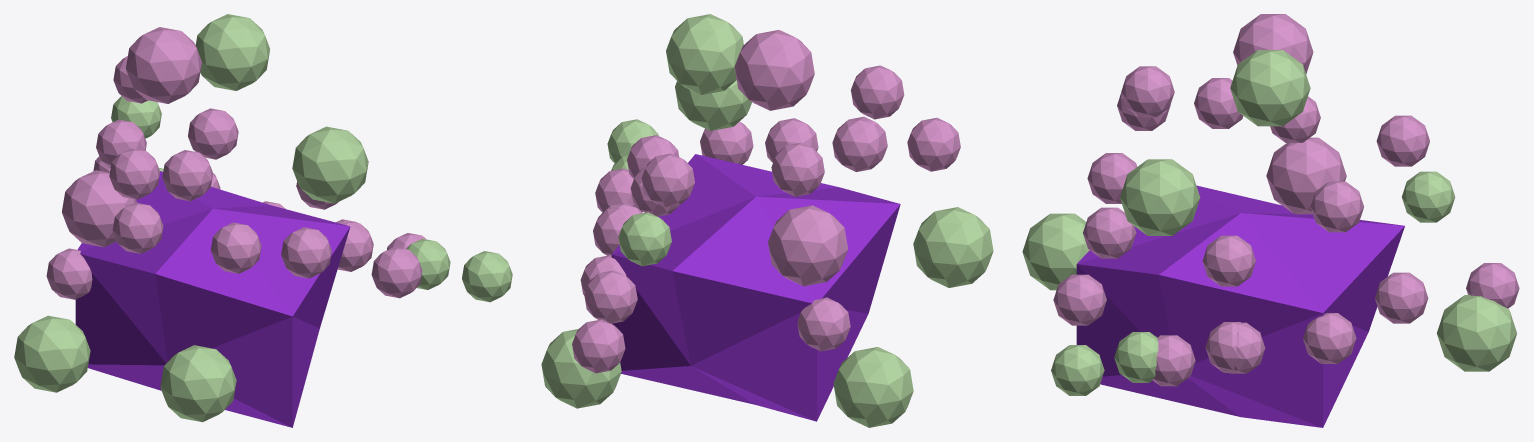
Rendered from ele1.dae.
The picture shows the model from 3 angles, left to right: view 1: azimuth 30°, elevation 25°; view 2: azimuth 150°, elevation 25°; view 3: azimuth 270°, elevation 25°; orthographic projection. The views are drawn at different scales.
Visible parts, largest first — view 1: Cone, Icosphere_026, Icosphere_021, Icosphere_022, Icosphere_023, Icosphere_024, Icosphere_020, Icosphere_006, Icosphere_015, Icosphere_017, Icosphere_010, Icosphere_011 (+9 smaller); view 2: Cone, Icosphere_020, Icosphere_021, Icosphere_026, Icosphere_022, Icosphere_024, Icosphere_025, Icosphere_023, Icosphere_001, Icosphere_017, Icosphere_014, Icosphere_018 (+13 smaller); view 3: Cone, Icosphere_024, Icosphere_023, Icosphere_025, Icosphere_020, Icosphere_021, Icosphere_022, Icosphere_010, Icosphere_001, Icosphere_009, Icosphere_008, Icosphere_013 (+14 smaller).
Part boxes in pixels (<box>): Cone: <box>75,171,350,427</box>; Icosphere_026: <box>14,315,90,392</box>; Icosphere_021: <box>160,345,236,422</box>; Icosphere_022: <box>126,27,201,103</box>; Icosphere_023: <box>292,126,368,203</box>; Icosphere_024: <box>195,14,270,90</box>; Icosphere_020: <box>62,170,136,247</box>; Icosphere_006: <box>462,251,512,302</box>; Icosphere_015: <box>112,202,163,253</box>; Icosphere_017: <box>109,148,159,199</box>; Icosphere_010: <box>371,247,422,298</box>; Icosphere_011: <box>281,227,331,278</box>; Cone: <box>611,154,900,421</box>; Icosphere_020: <box>768,205,848,286</box>; Icosphere_021: <box>913,207,993,287</box>; Icosphere_026: <box>833,347,913,427</box>; Icosphere_022: <box>734,30,814,110</box>; Icosphere_024: <box>666,14,743,94</box>; Icosphere_025: <box>541,329,621,408</box>; Icosphere_023: <box>675,80,751,130</box>; Icosphere_001: <box>618,212,671,266</box>; Icosphere_017: <box>832,118,885,171</box>; Icosphere_014: <box>641,153,694,207</box>; Icosphere_018: <box>851,65,904,119</box>; Cone: <box>1076,185,1404,427</box>; Icosphere_024: <box>1230,50,1310,126</box>; Icosphere_023: <box>1120,159,1200,235</box>; Icosphere_025: <box>1436,295,1516,371</box>; Icosphere_020: <box>1266,137,1346,214</box>; Icosphere_021: <box>1022,213,1089,290</box>; Icosphere_022: <box>1233,14,1313,73</box>; Icosphere_010: <box>1053,274,1106,325</box>; Icosphere_001: <box>1402,171,1455,222</box>; Icosphere_009: <box>1375,272,1428,323</box>; Icosphere_008: <box>1310,181,1363,232</box>; Icosphere_013: <box>1202,235,1255,286</box>.
Bounding box in the file's own units: 3.41 × 3.71 × 3.16.
